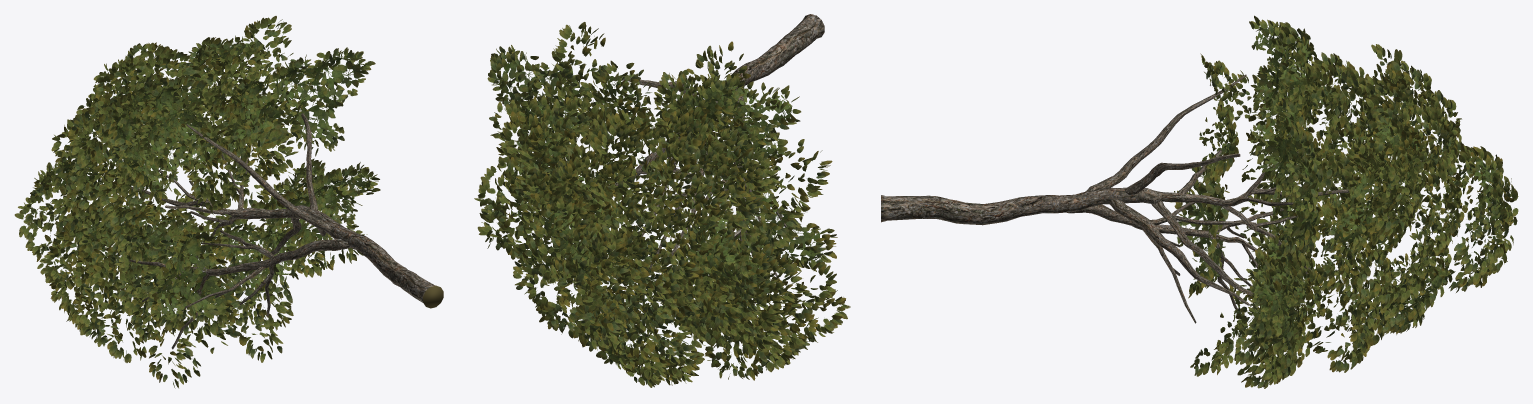
File: Tree001.fbx
3 views of the same model, side by side, from view 1: azimuth 30°, elevation 25°; view 2: azimuth 150°, elevation 25°; view 3: azimuth 270°, elevation 25° (orthographic). The views are drawn at different scales.
Parts seen in each view (by area): view 1: trunk.001; view 2: trunk.001; view 3: trunk.001.
Part boxes in pixels (<box>): trunk.001: <box>14,16,443,388</box>; trunk.001: <box>474,14,850,387</box>; trunk.001: <box>881,15,1518,388</box>.
Bounding box in the file's own units: 629 × 597 × 946.
